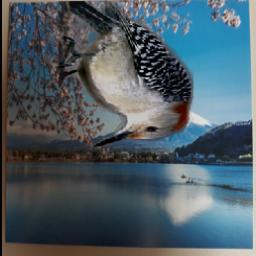Woodpecker: (59, 1, 193, 147)
